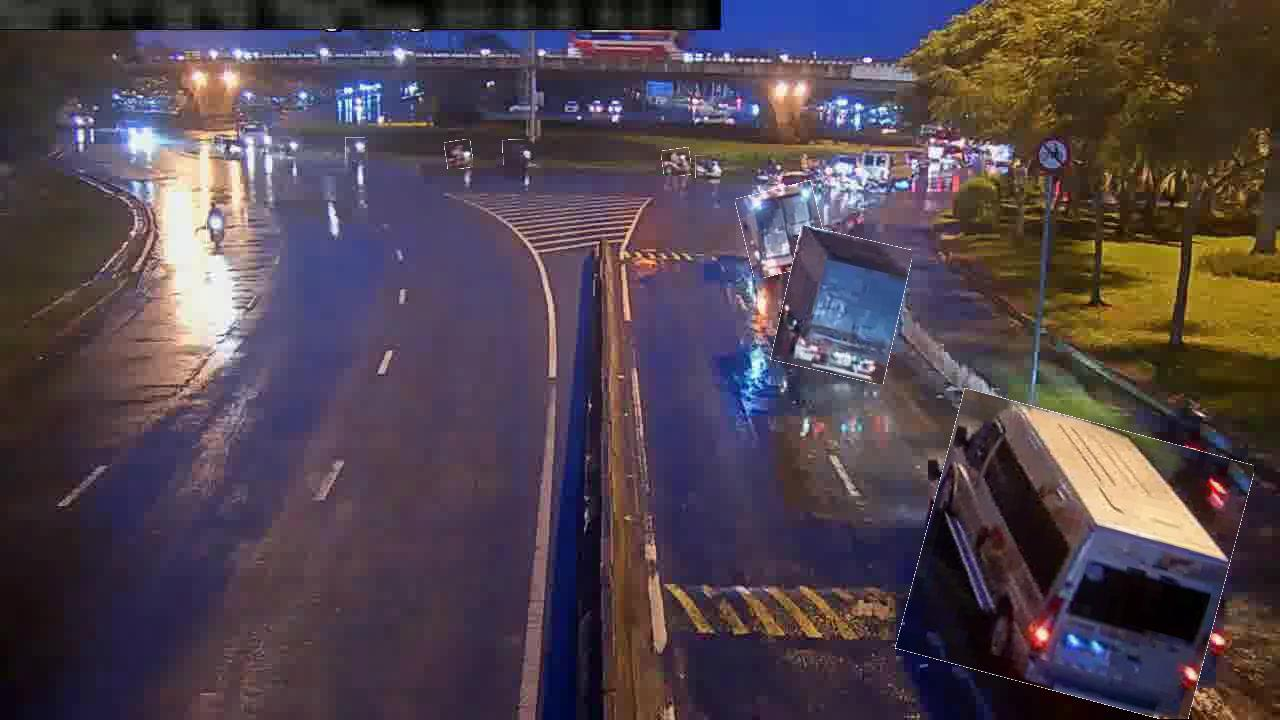container: (777, 231, 906, 380), (740, 184, 826, 275)
motorbike: (206, 199, 225, 245), (662, 148, 692, 177), (445, 140, 473, 170), (503, 140, 532, 166), (695, 155, 722, 179), (345, 137, 366, 160)
passenger_car: (910, 405, 1241, 708)
